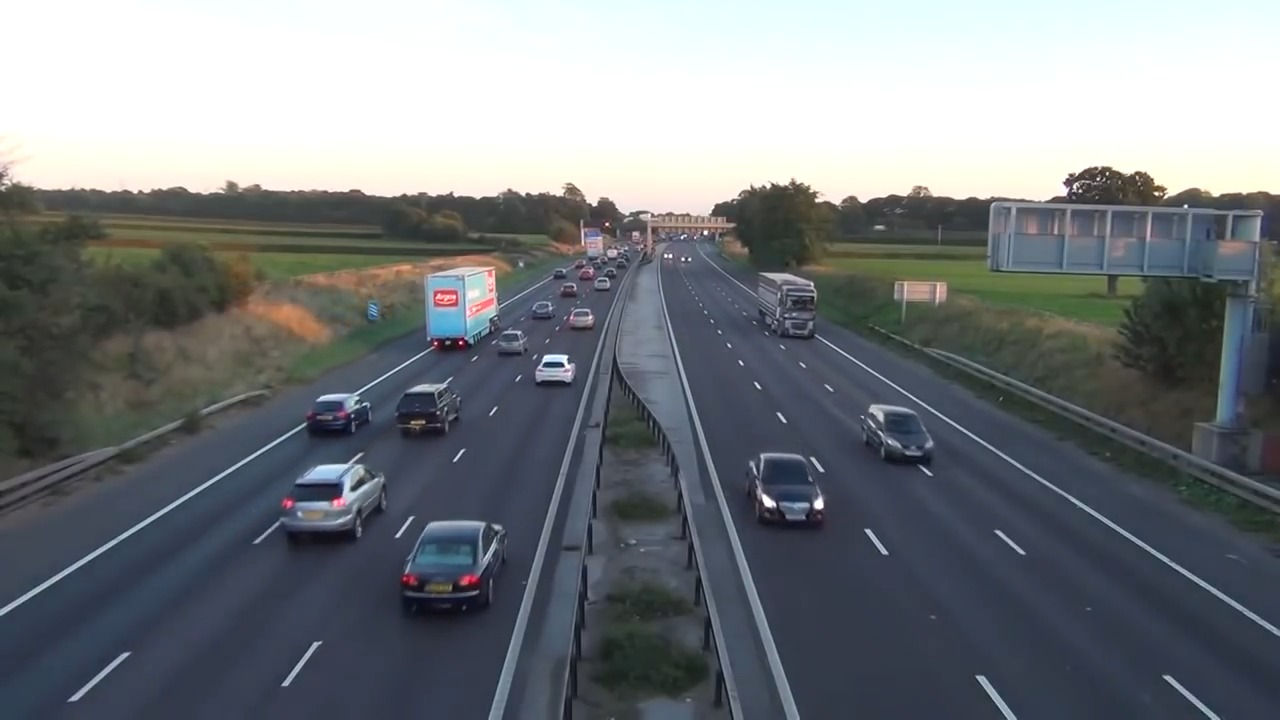truck: (425, 264, 502, 349), (757, 270, 821, 340)
